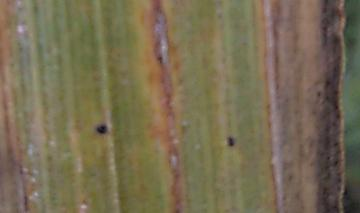tarspot: (94, 123, 108, 136), (339, 184, 349, 197), (226, 134, 235, 148), (323, 79, 330, 90), (156, 54, 163, 64), (333, 158, 339, 166), (316, 91, 322, 97), (325, 155, 331, 160)
